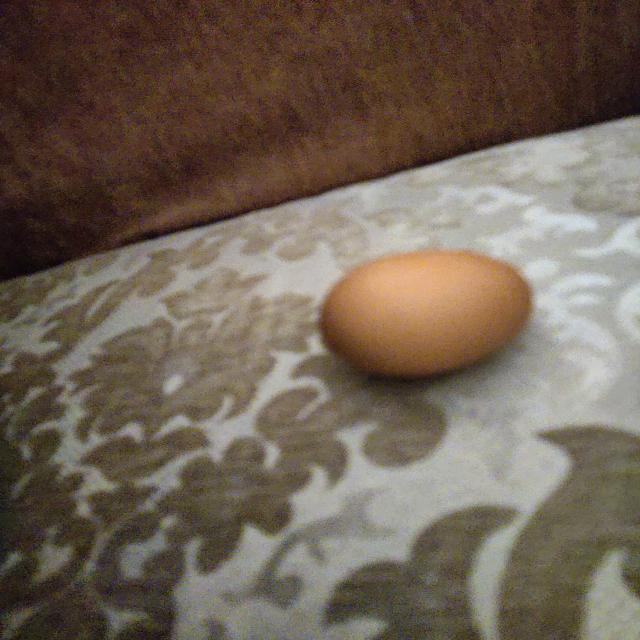Egg: (317, 246, 534, 384)
